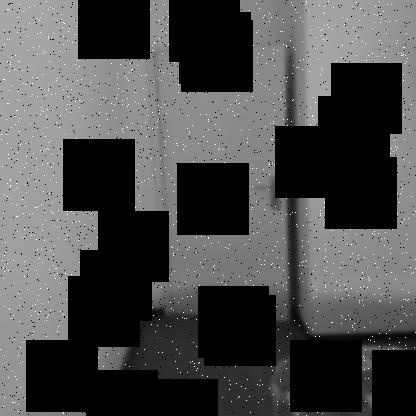Porte: (142, 37, 302, 324)
